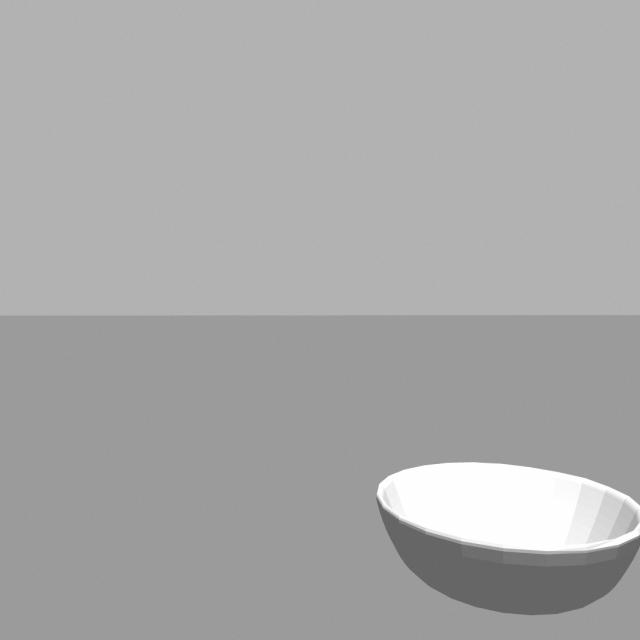bowl: (340, 447, 640, 625)
